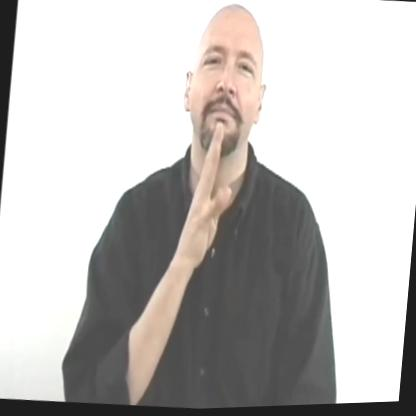Talk: (162, 0, 298, 282)
